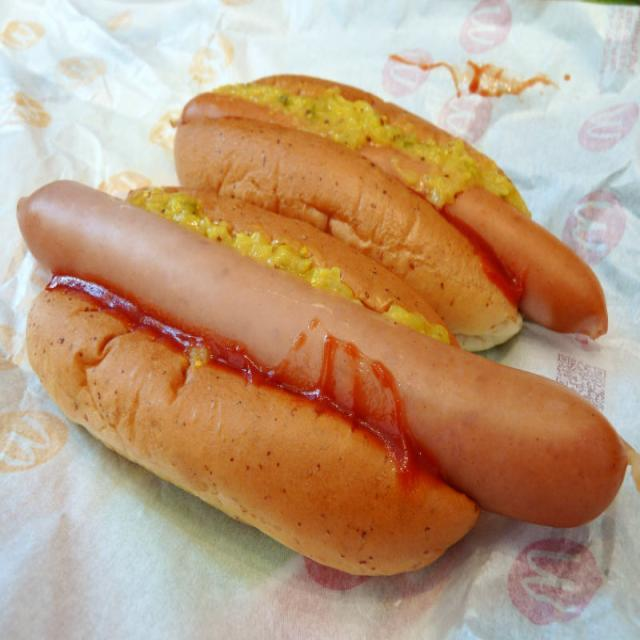Hot Dog: (0, 176, 618, 577)
